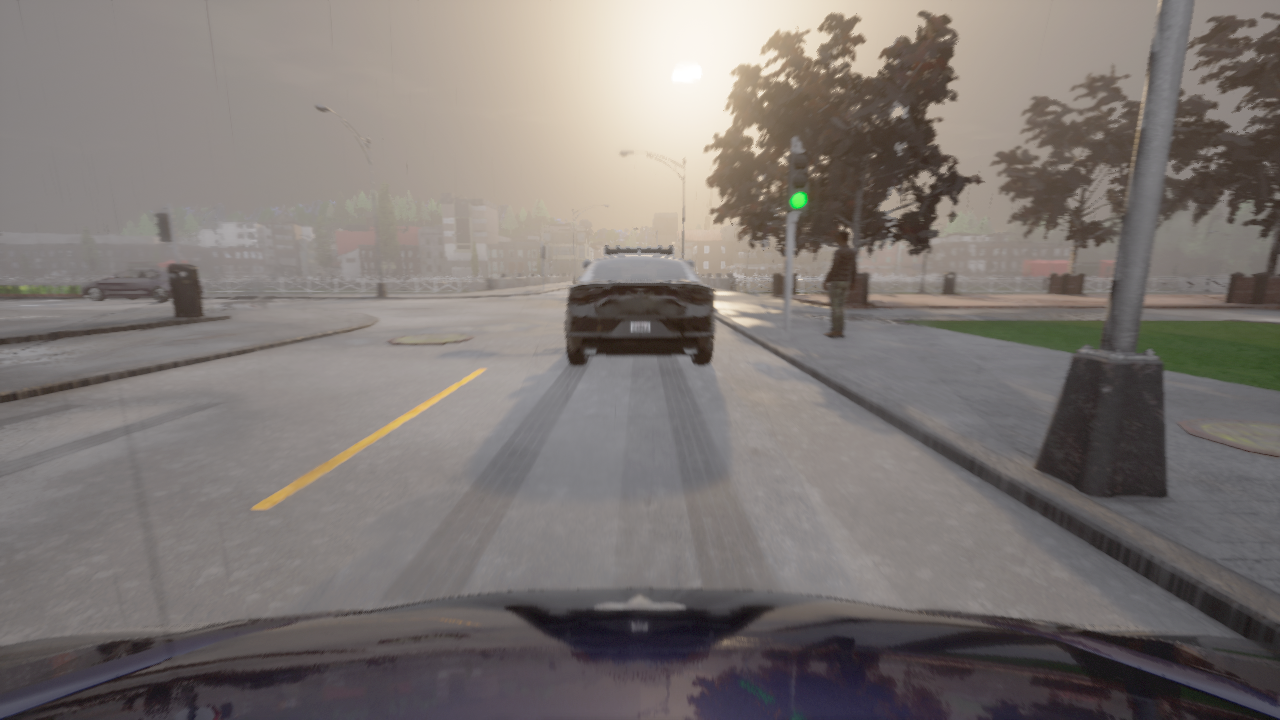cyclist: (0, 588, 1279, 719), (565, 246, 714, 364), (81, 268, 202, 301)
pedestrian: (823, 229, 858, 336)
